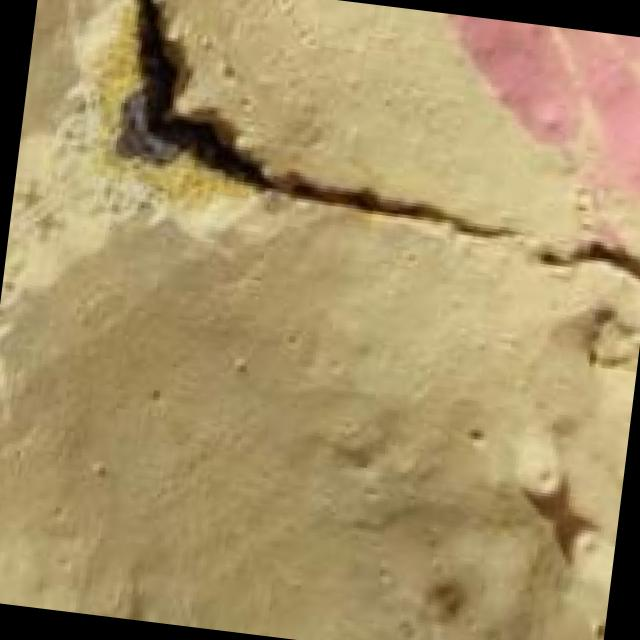crack: (72, 0, 640, 304)
